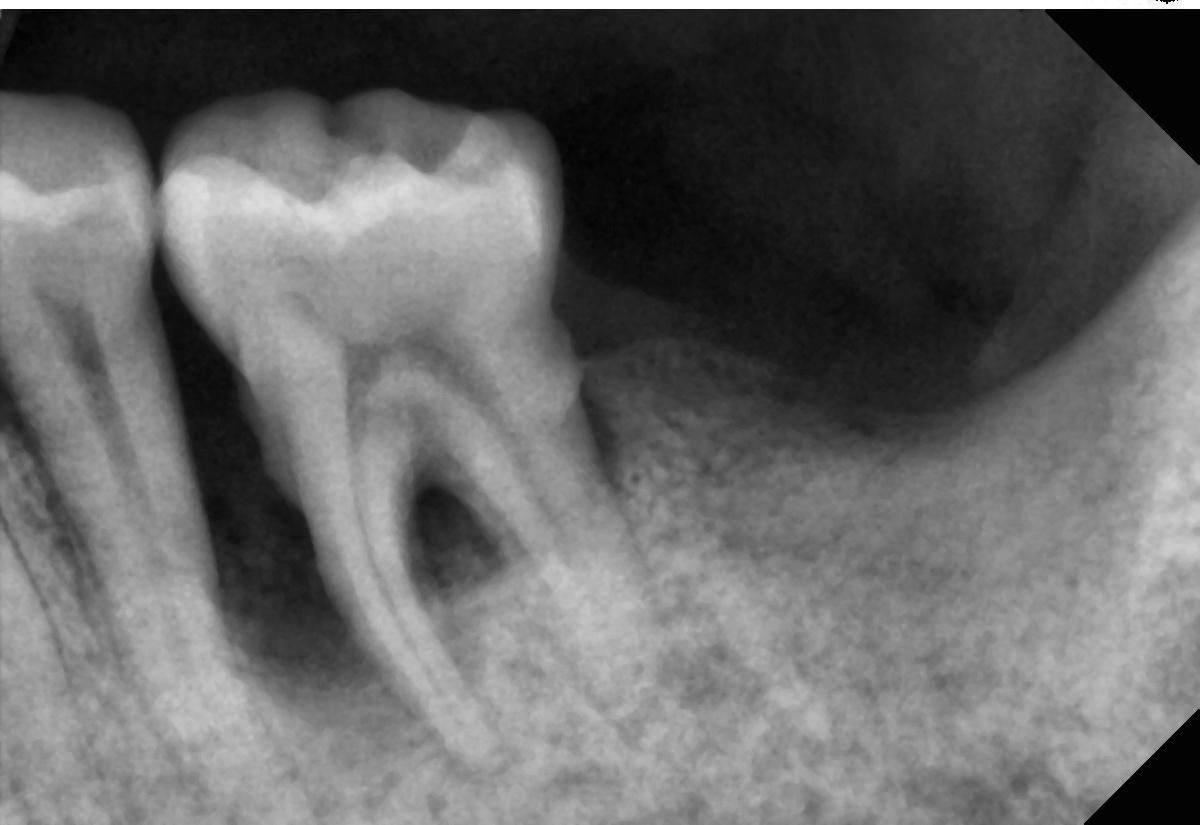Individual Tooth: (159, 91, 654, 763), (0, 94, 261, 780)
